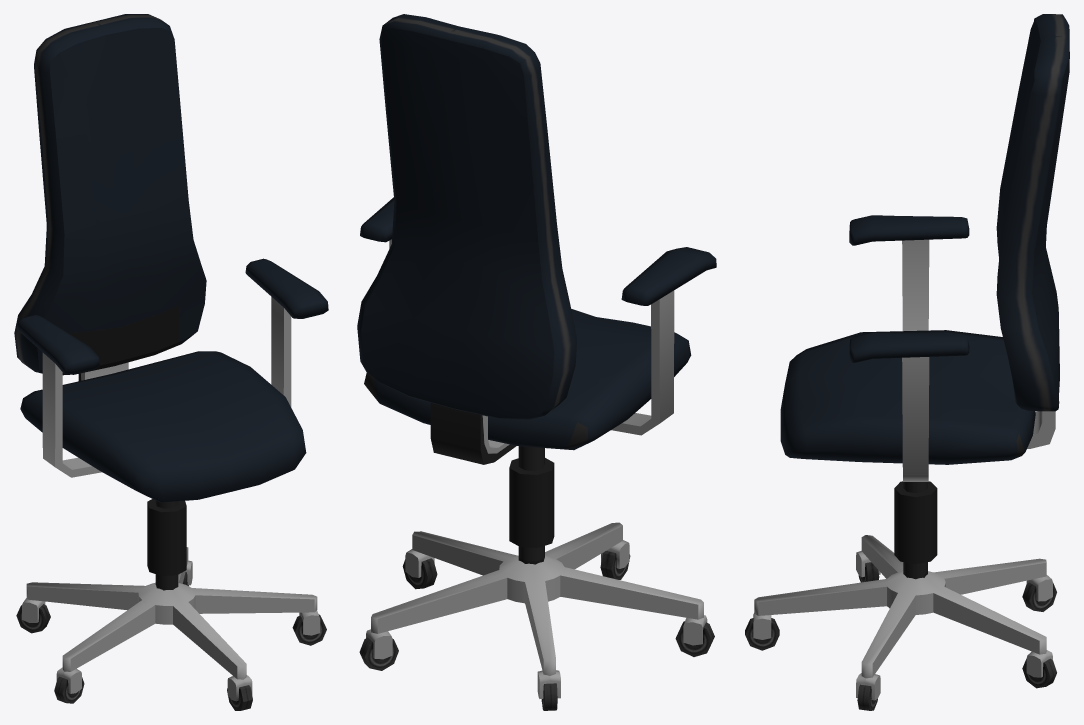
The model's file is chair_computer_a_01.FBX.
3 views of the same model, side by side, from view 1: azimuth 30°, elevation 25°; view 2: azimuth 150°, elevation 25°; view 3: azimuth 270°, elevation 25° (orthographic). The views are drawn at different scales.
Parts seen in each view (by area): view 1: chair_computer_a_01; view 2: chair_computer_a_01; view 3: chair_computer_a_01.
Boxes of the visible parts, x1,y1,x2,y2 form: chair_computer_a_01: (14, 14, 328, 710); chair_computer_a_01: (357, 14, 716, 710); chair_computer_a_01: (745, 14, 1069, 710).
Bounding box in the file's own units: 0.6607 × 1.36 × 0.6538.
